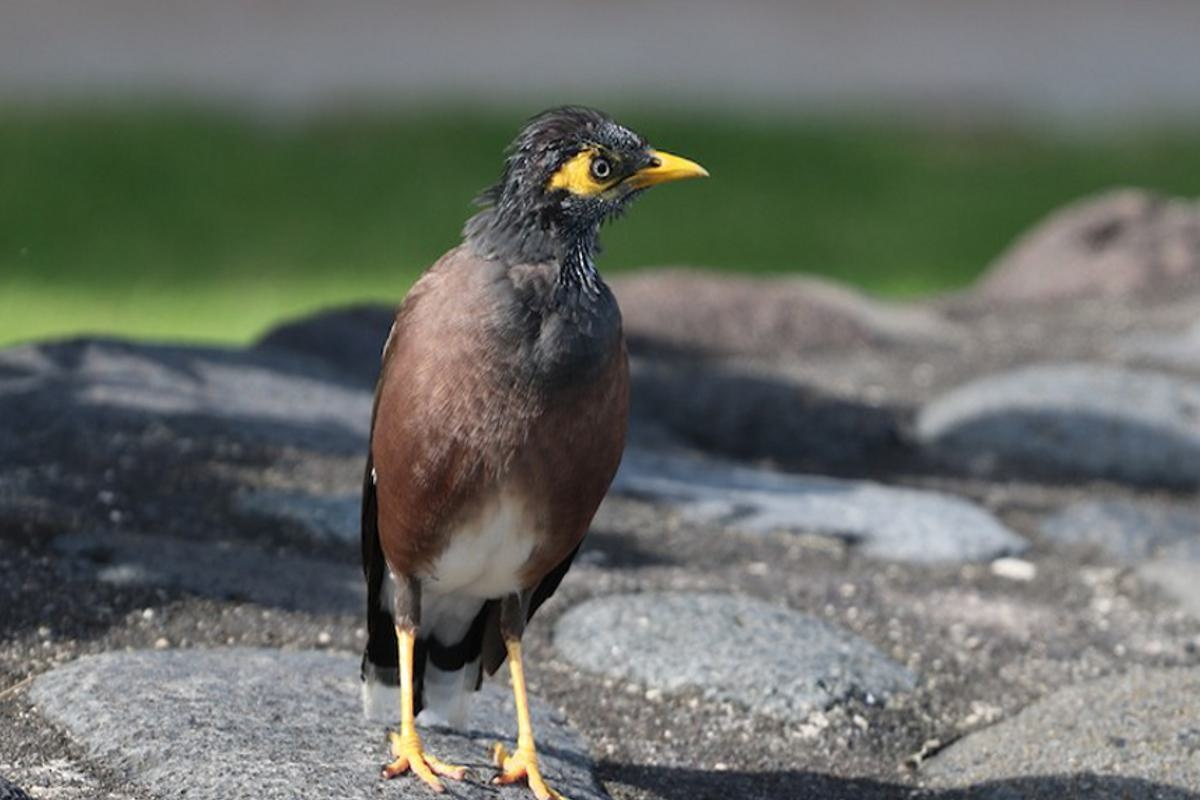myna: (311, 31, 749, 800)
